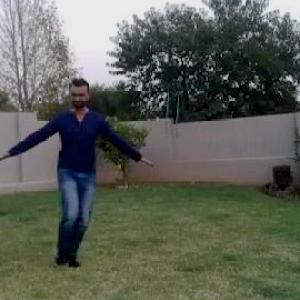land: (1, 87, 158, 262)
